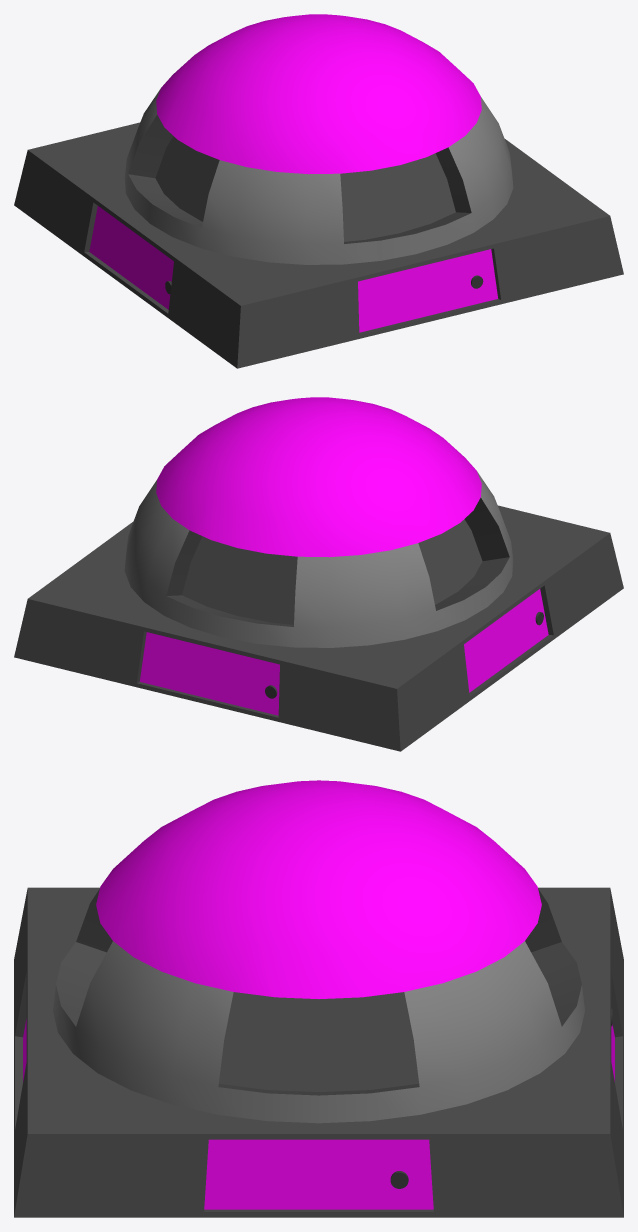
Rendered from Bunker.fbx.
3 renders of one model, top to bottom at view 1: azimuth 30°, elevation 25°; view 2: azimuth 150°, elevation 25°; view 3: azimuth 270°, elevation 25°, orthographic. The views are drawn at different scales.
Visible parts, largest first — view 1: Sphere.014, Cube.044; view 2: Sphere.014, Cube.044; view 3: Sphere.014, Cube.044.
Part boxes in pixels (x1,y1,x2,y2): Sphere.014: (124,14,513,264); Cube.044: (14,122,623,368); Sphere.014: (124,397,513,647); Cube.044: (14,505,623,751); Sphere.014: (53,780,584,1123); Cube.044: (14,887,623,1217).
Bounding box in the file's own units: 194 × 98.99 × 194.
